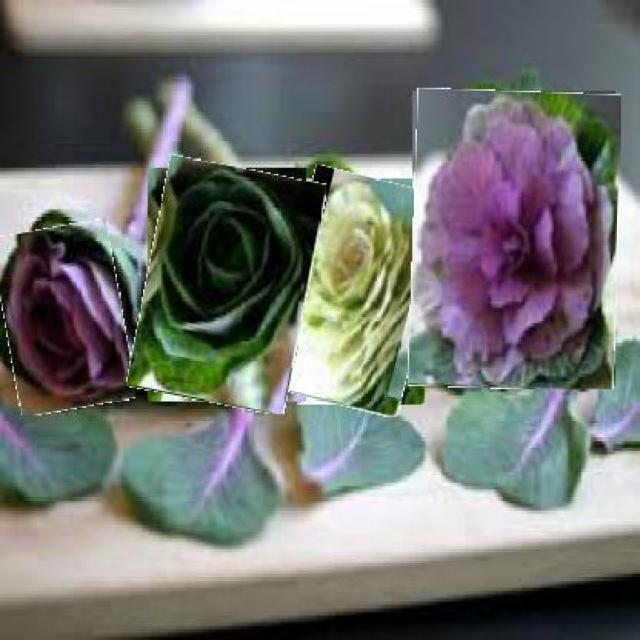Flower: (410, 89, 619, 389), (138, 162, 318, 409), (276, 172, 439, 413), (0, 223, 129, 414)
